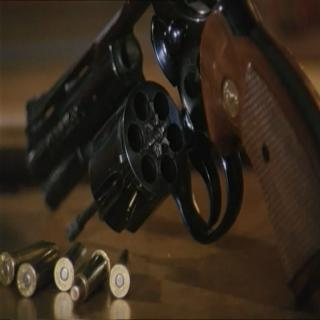gun: (16, 5, 318, 316)
